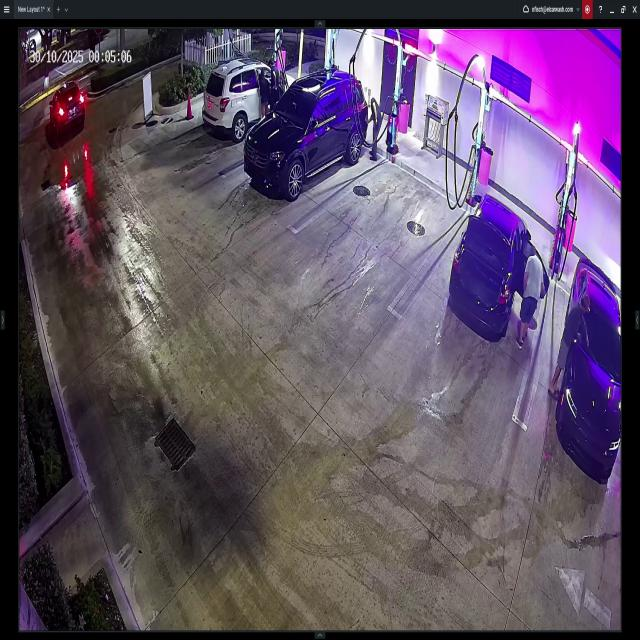Car: (244, 68, 368, 199), (556, 256, 622, 482), (442, 195, 550, 326), (202, 58, 295, 140), (47, 81, 88, 136)
